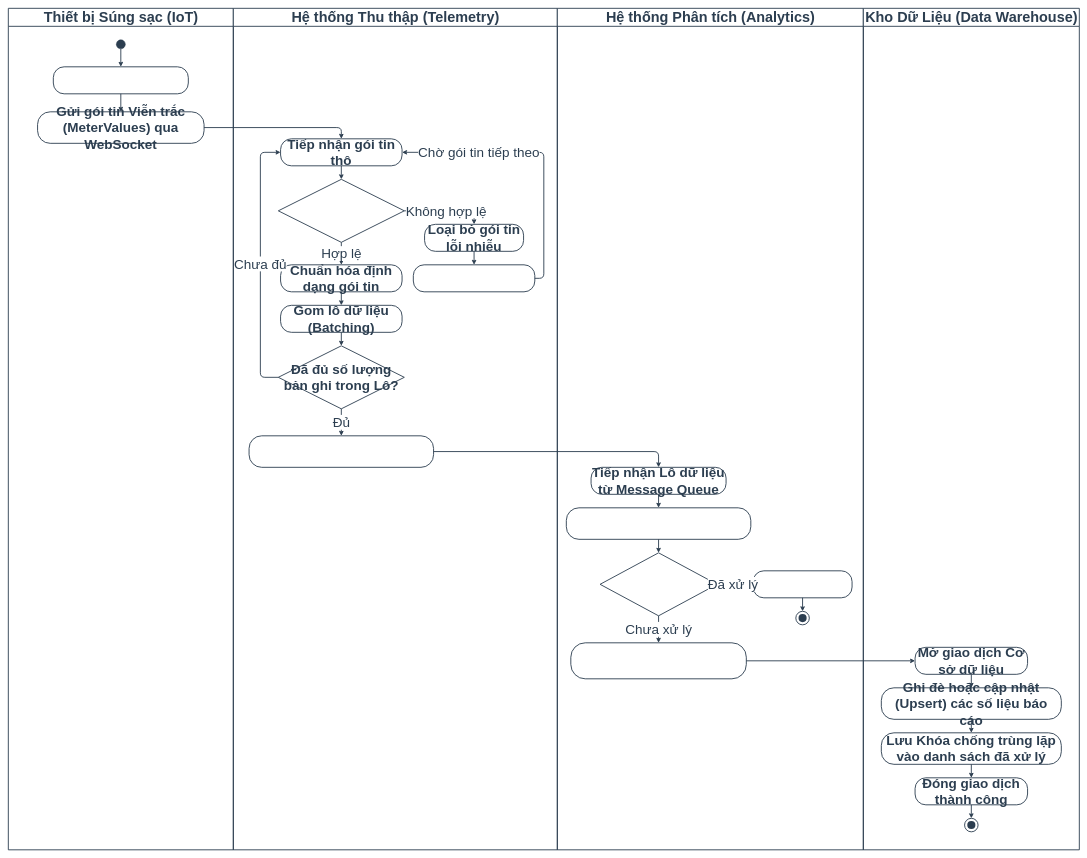
This 1087x858 diagram has some shape labels left out. Here are the shapes that lost their labels. From the top down, the centre of each, then its label:
At (121,80): "Đo lường điện áp, dòng điện theo chu kỳ".
At (341,211): "Dữ liệu có hợp lệ không? (Điện áp > 0, Dòng điện >= 0)".
At (474,278): "Ghi log cảnh báo thiết bị phần cứng".
At (341,451): "Xuất bản Lô dữ liệu qua Message Queue (RabbitMQ)".
At (658,523): "Truy vấn Khóa chống trùng lặp (Idempotency Key)".
At (658,584): "Dữ liệu lô này đã được xử lý chưa?".
At (802,584): "Bỏ qua để tránh tính toán trùng lặp".
At (658,660): "Tính toán tổng hợp các chỉ số (Tổng kWh tiêu thụ, Tần suất sạc, Công suất đỉnh)".
